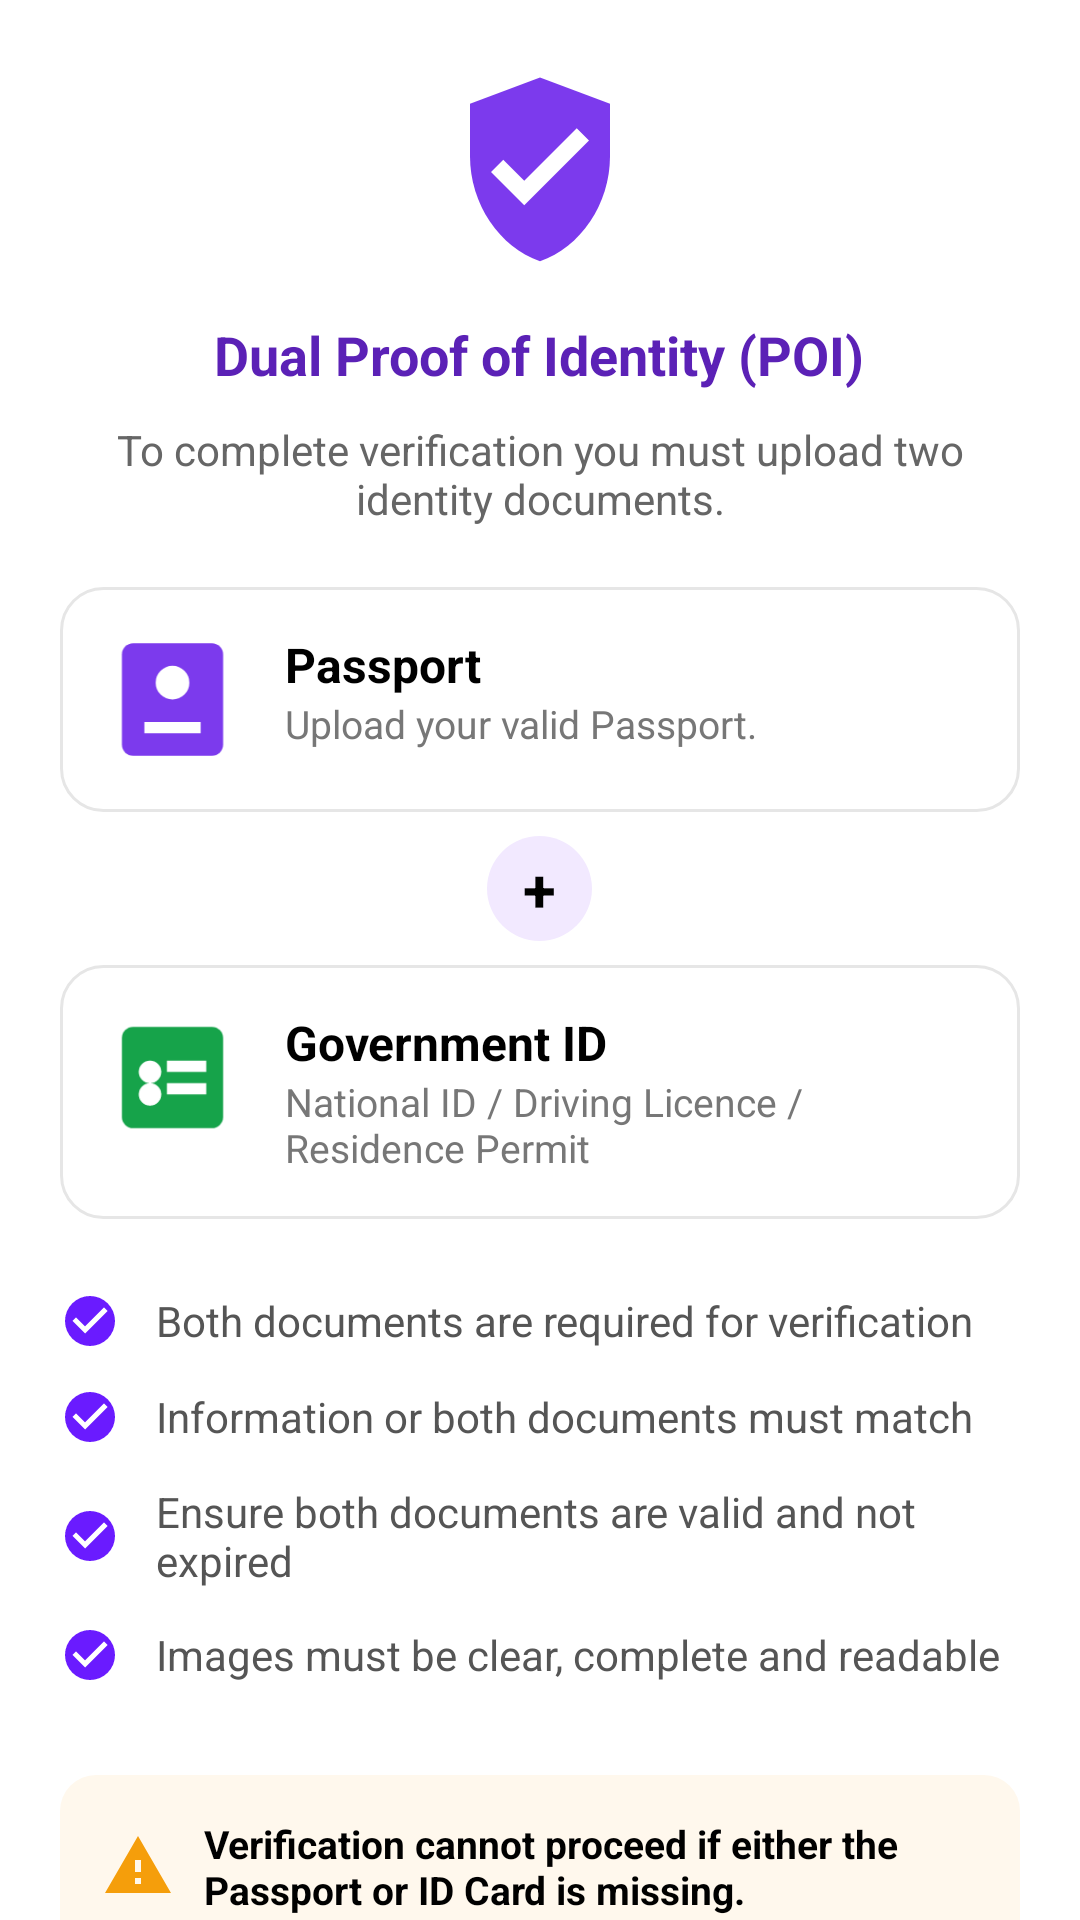

Icon bounding boxes for this 1080×1920 phone screenshot, format (left=x1, top=y1, right=x2, bottom=y2):
check circle: (left=65, top=1296, right=115, bottom=1346), (left=65, top=1392, right=115, bottom=1442), (left=65, top=1511, right=115, bottom=1561), (left=65, top=1630, right=115, bottom=1680)
warning: (left=105, top=1836, right=171, bottom=1893)
